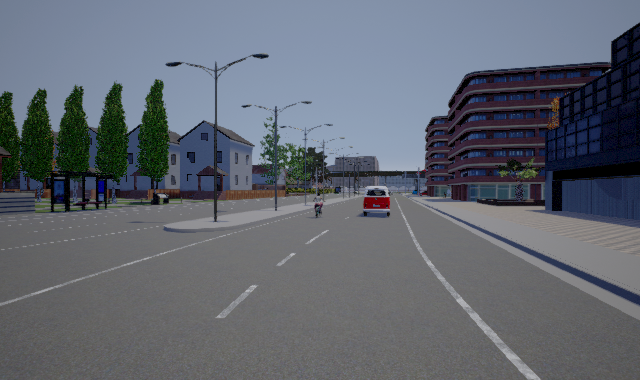bike: (311, 192, 326, 219)
vehicle: (363, 186, 393, 217)
